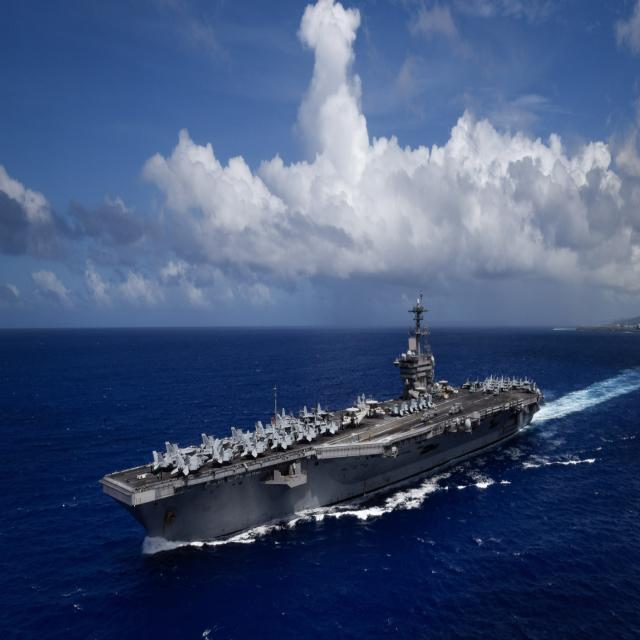Portanaves: (100, 292, 545, 561)
